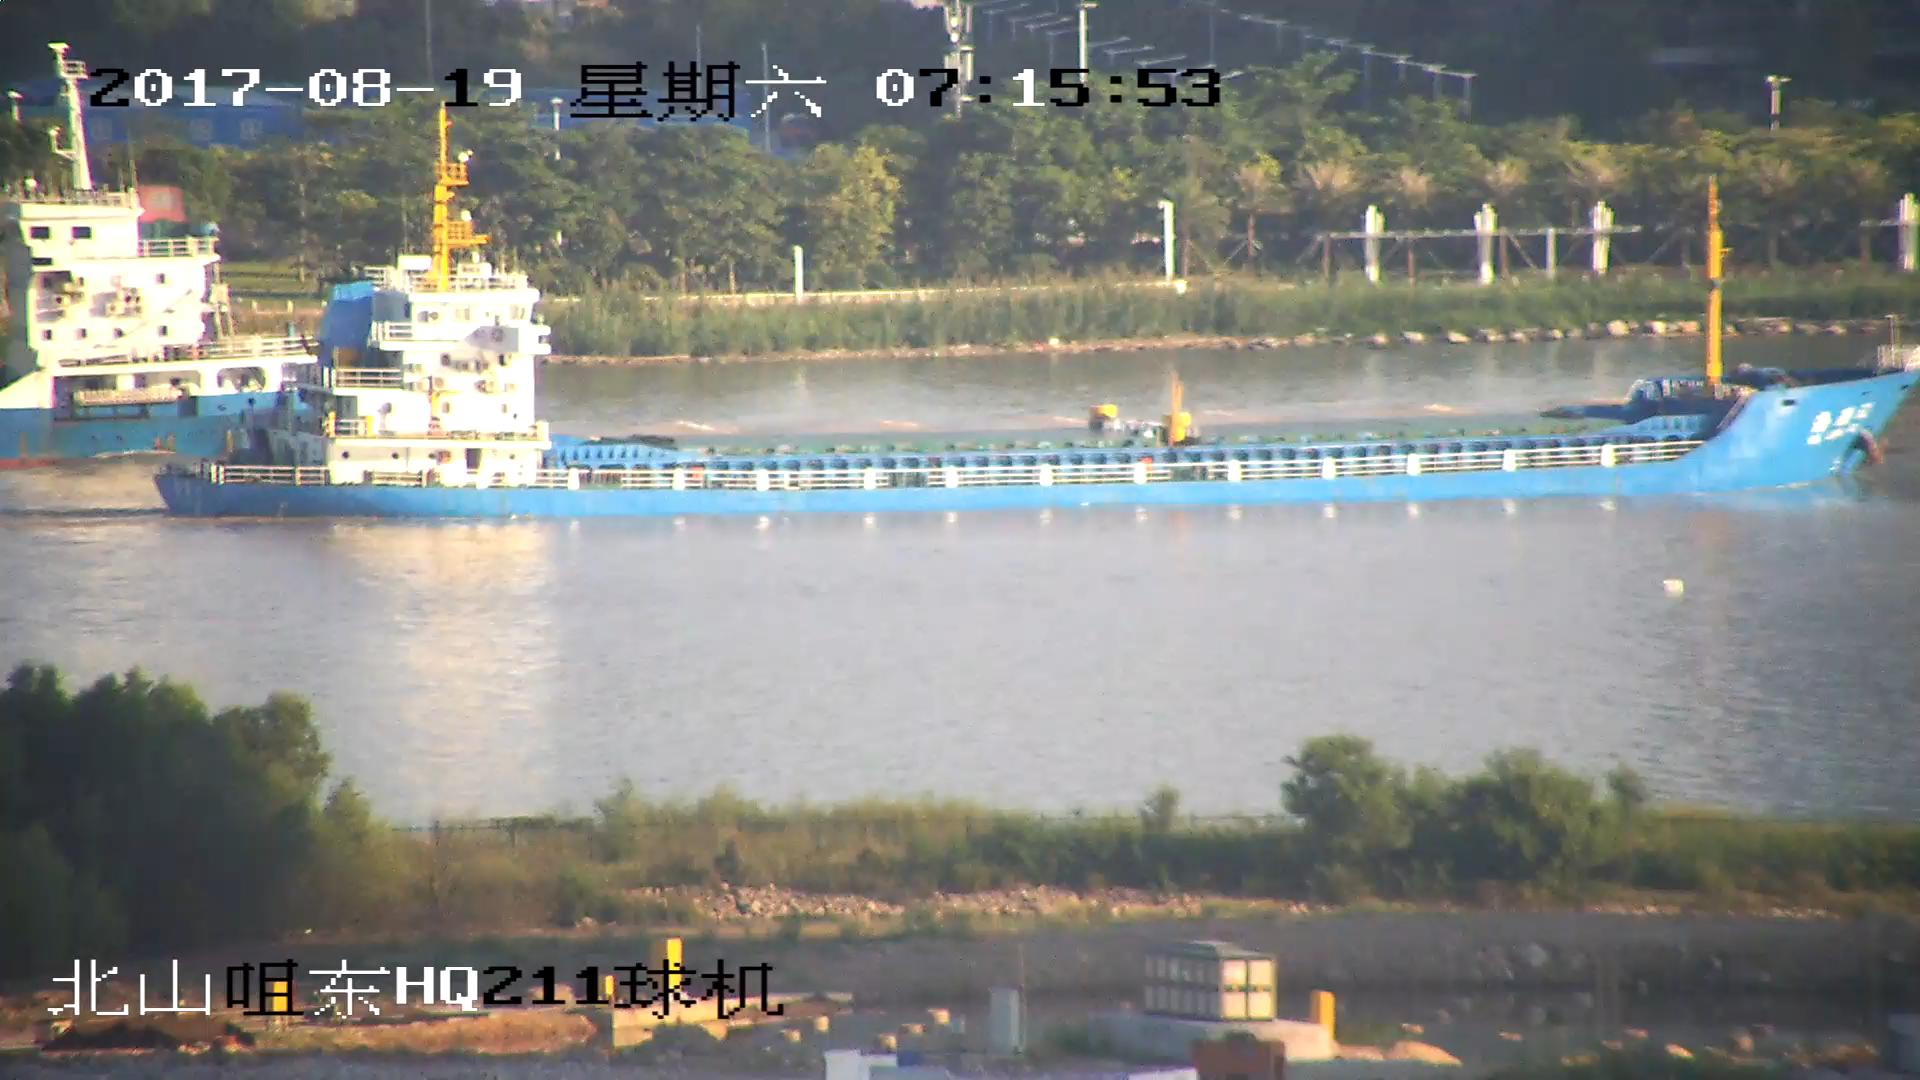general cargo ship: (147, 111, 1920, 518), (1, 103, 288, 474)
